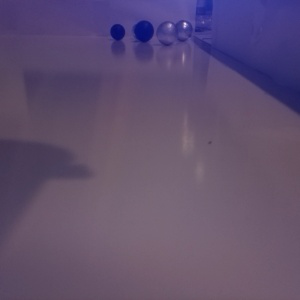alive_ball: (156, 21, 179, 46), (174, 20, 193, 41), (131, 24, 145, 40)
dead_ball: (134, 20, 154, 42), (110, 23, 126, 41)
